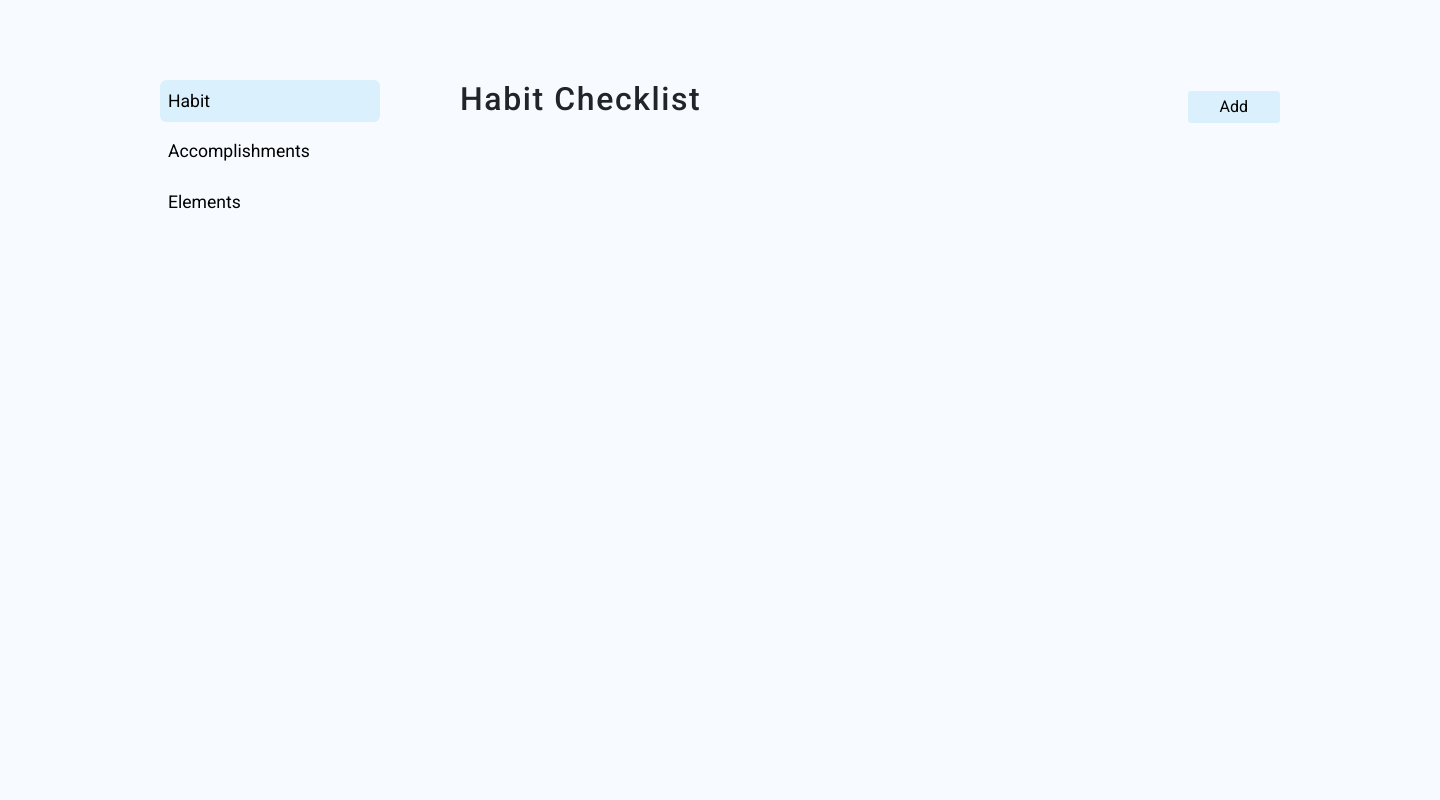
Test: habit dashboard › should nothing happen if we don't type in the inputField and click 'Save Changes' button
What coordinates should you click on to do the following:
click the button with id "habit-add-btn"
I would click on:
 (1235, 107)
Its box is [1188,91,1281,123].
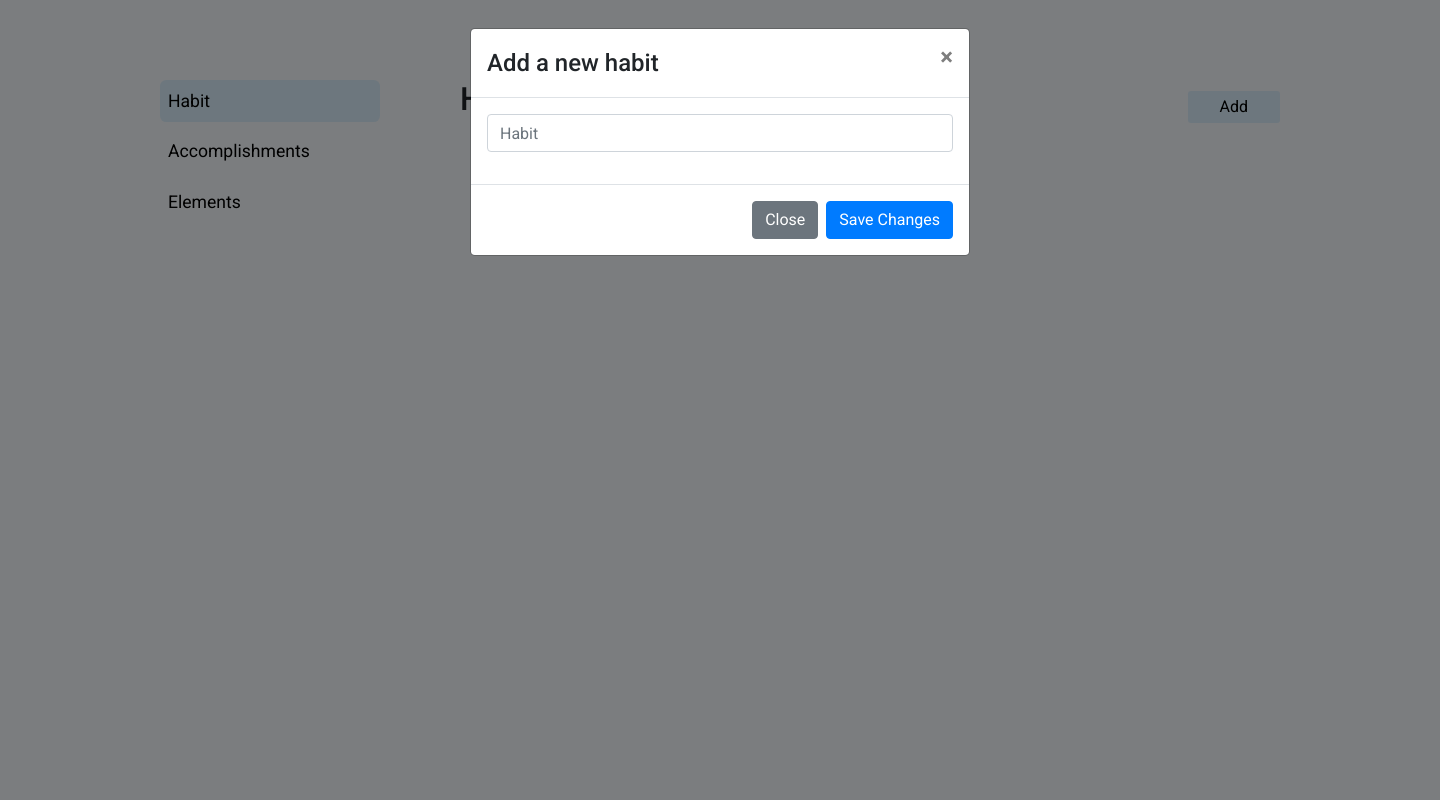
Check: the text "Add a new habit" is shown, box [487,45,659,81]
What coordinates should you click on to do the following:
click the button "Save Changes"
I would click on:
 (890, 220)
Its box is [826,201,953,239].
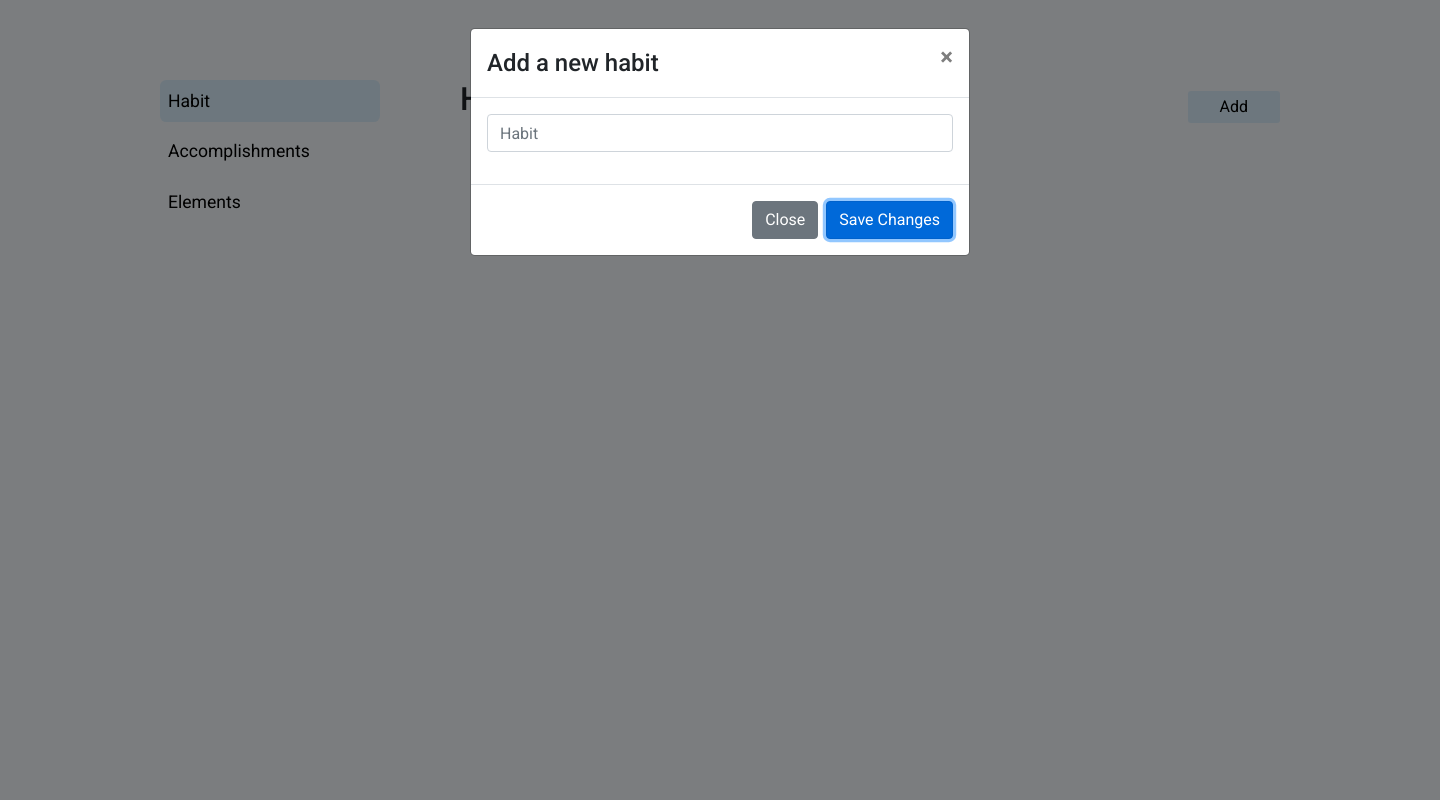
Check: the text "Add a new habit" is shown, box [487,45,659,81]
What coordinates should you click on to do the following:
click the button "Close"
I would click on:
 (947, 57)
Its box is [924,29,969,85].
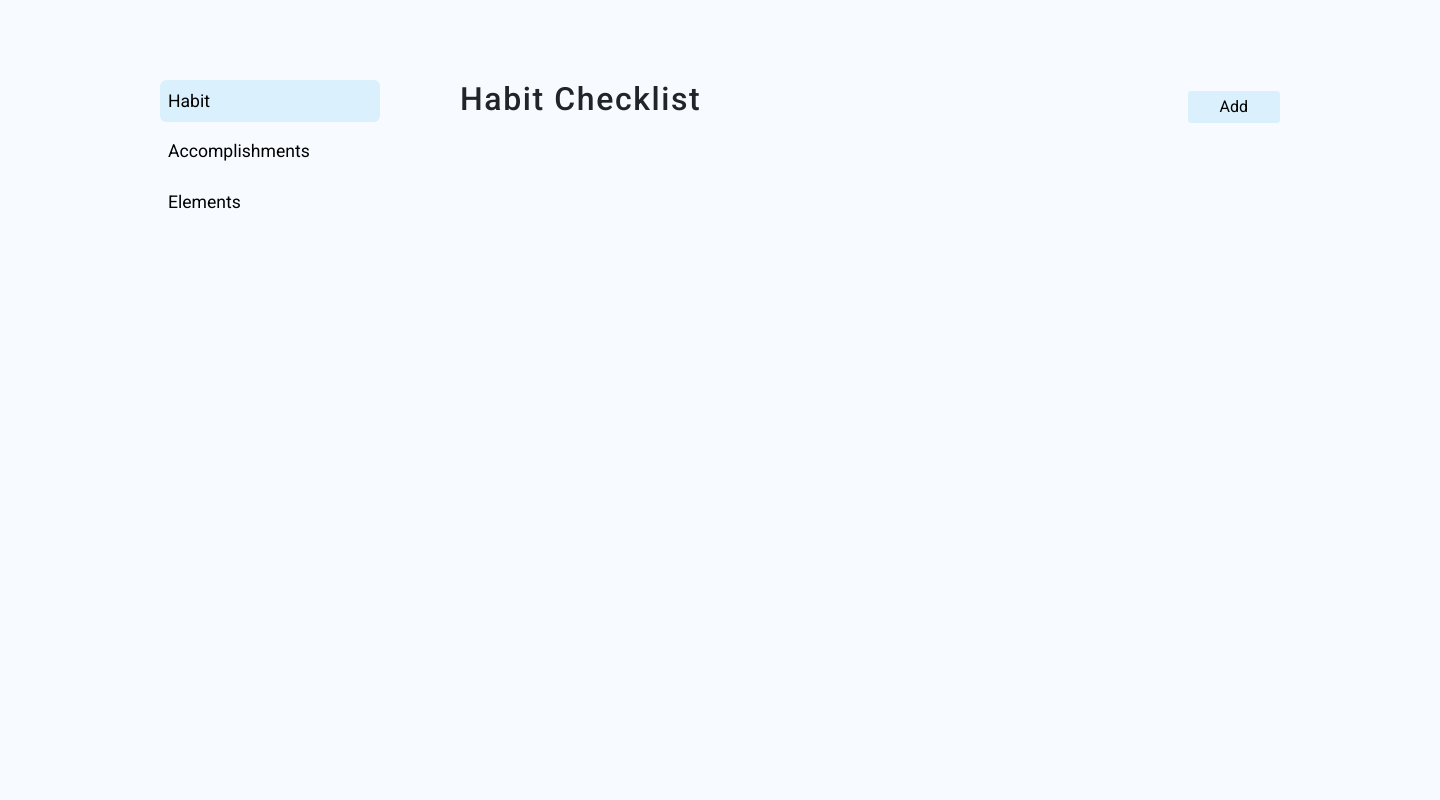
Check: the text "Add a new habit" is gone
